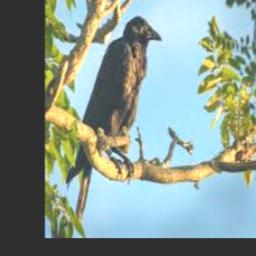Crow: (66, 16, 162, 220)
